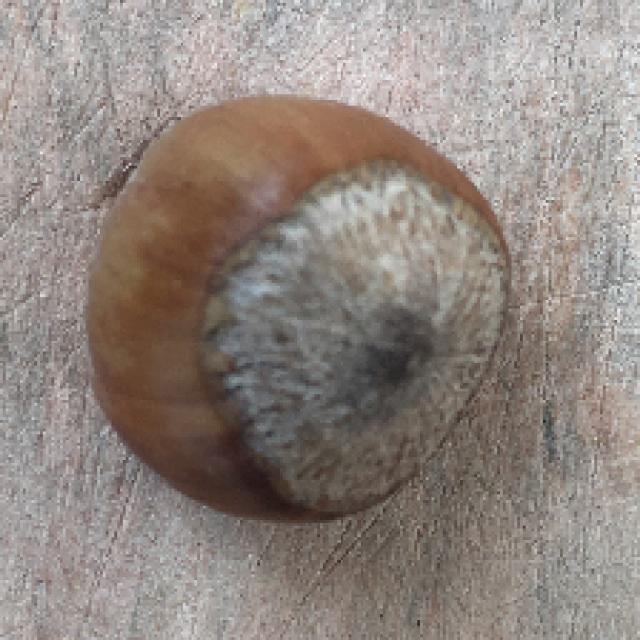qualityHazelnut: (92, 90, 520, 526)
